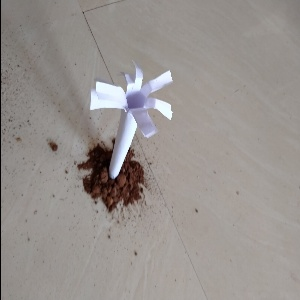weed: (88, 60, 167, 188)
